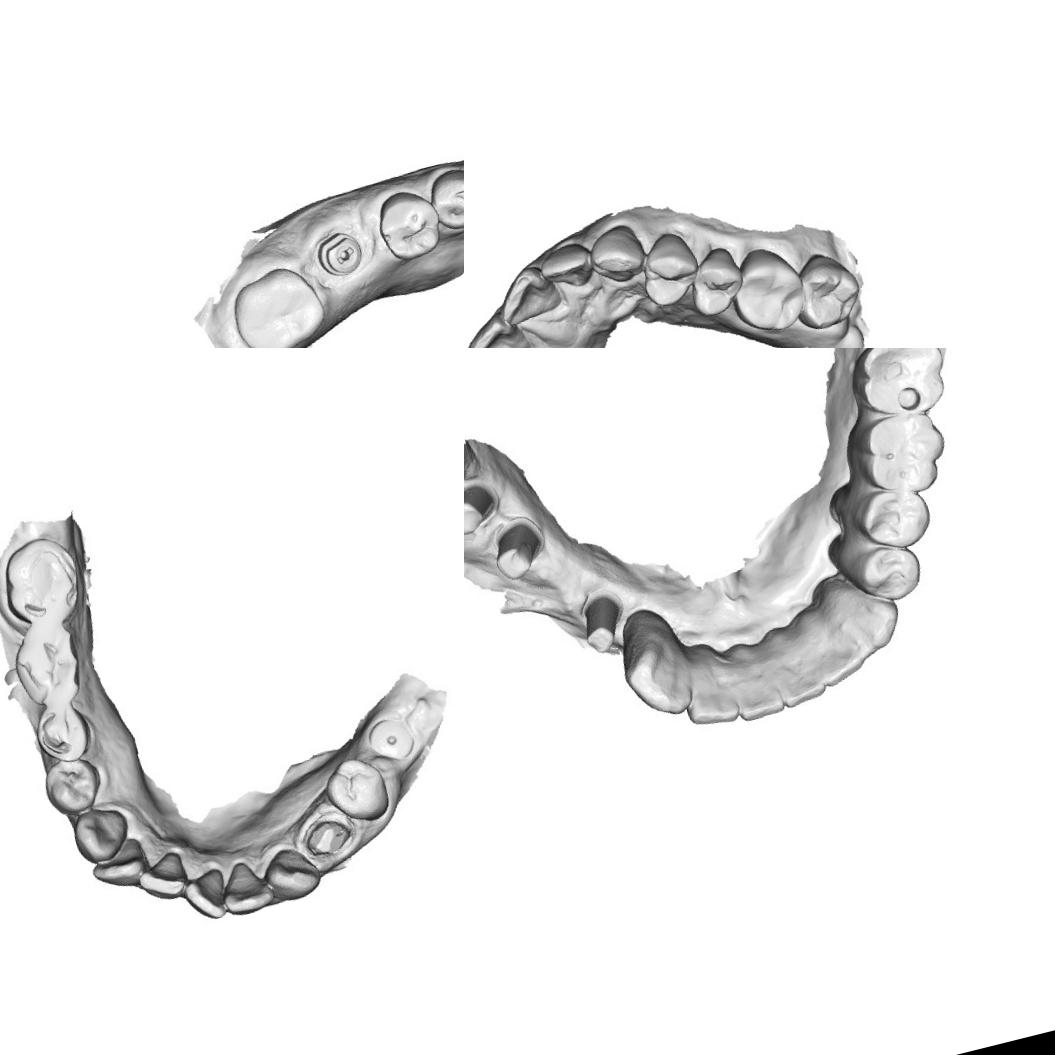abutment: (481, 514, 551, 591), (570, 586, 630, 657), (464, 471, 506, 546)
canine: (611, 600, 700, 721), (818, 566, 903, 662), (582, 218, 650, 289), (261, 836, 326, 902), (73, 800, 132, 862)
crown: (295, 805, 362, 870)
implant: (364, 708, 427, 776)
implant_minus: (309, 223, 369, 283)
incisor: (670, 634, 746, 734), (790, 594, 870, 688), (718, 638, 788, 727), (757, 623, 824, 710), (493, 259, 568, 336), (88, 832, 154, 897), (216, 856, 280, 918), (535, 236, 598, 296), (136, 850, 194, 911), (182, 864, 235, 924), (464, 306, 530, 348)
molar: (222, 256, 334, 348), (854, 402, 958, 499), (720, 238, 814, 340), (849, 348, 959, 429), (1, 533, 88, 629), (785, 244, 868, 336), (7, 618, 88, 708), (325, 752, 391, 823)
premolar: (828, 516, 925, 614), (838, 465, 933, 555), (631, 225, 706, 313), (369, 182, 447, 266), (682, 241, 750, 321), (43, 749, 108, 816), (34, 700, 95, 764), (423, 159, 464, 235)
